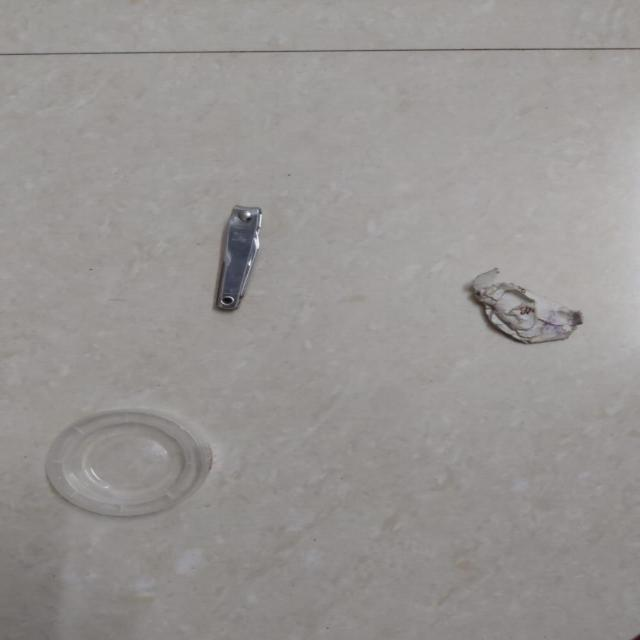dry: (43, 407, 215, 518), (470, 266, 584, 346), (214, 204, 264, 312)
